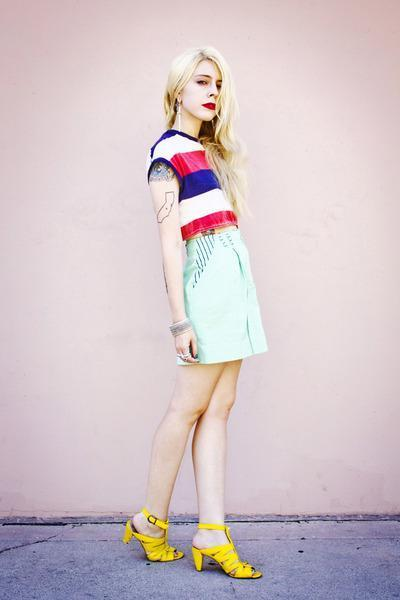short sleeve shirt: (142, 128, 242, 238)
skirt: (168, 227, 271, 367)
